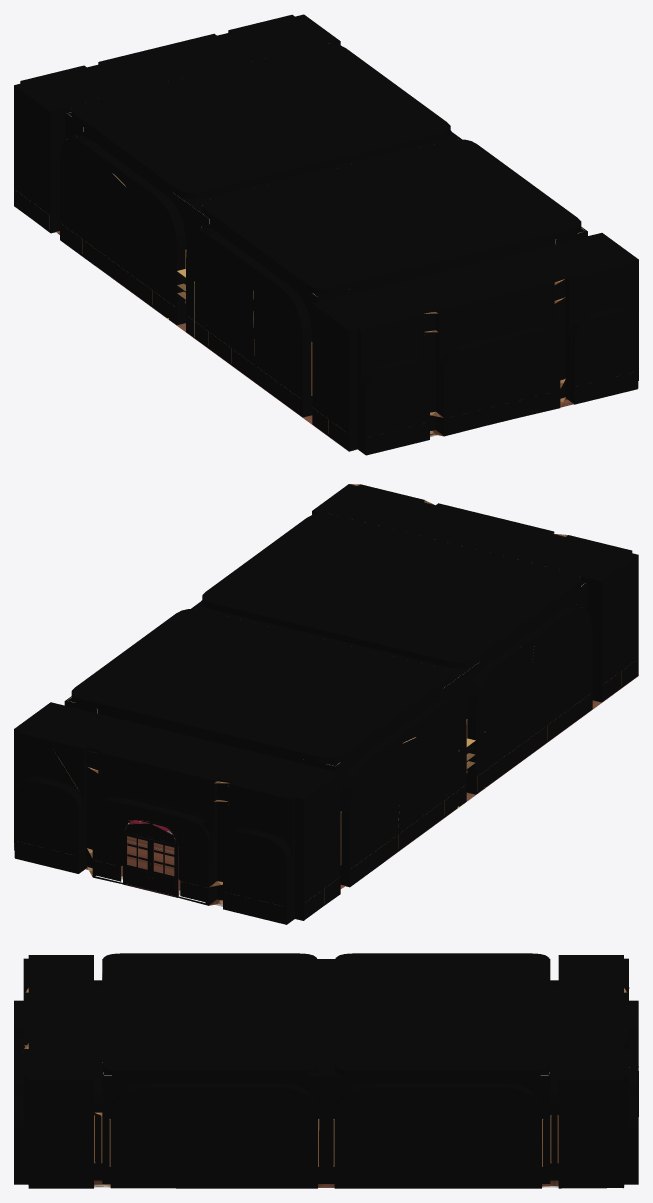
Rendered from casino-undraco.glb.
3 views of the same model, one above another, from view 1: azimuth 30°, elevation 25°; view 2: azimuth 150°, elevation 25°; view 3: azimuth 270°, elevation 25° (orthographic). The views are drawn at different scales.
Visible parts, largest first — view 1: Material2, Material3; view 2: Material2, Material3 (×3); view 3: Material2, Material3.
Boxes of the visible parts, x1,y1,x2,y2 form: Material2: (14, 14, 638, 455); Material3: (56, 112, 584, 451); Material2: (14, 484, 638, 924); Material3 (×3): (14, 484, 638, 923); Material2: (14, 953, 638, 1188); Material3: (23, 988, 629, 1166).
Size of the model in its own units: 485 by 203 by 1017.
12 materials, 11 textured.
